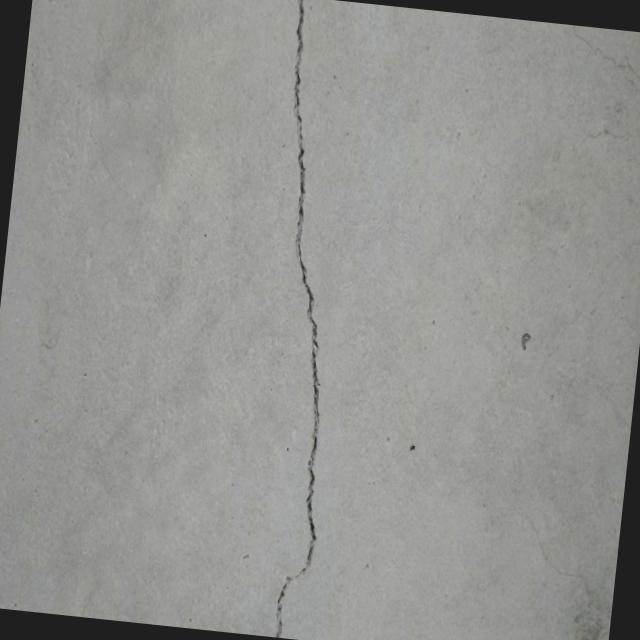crack: (228, 1, 373, 636)
